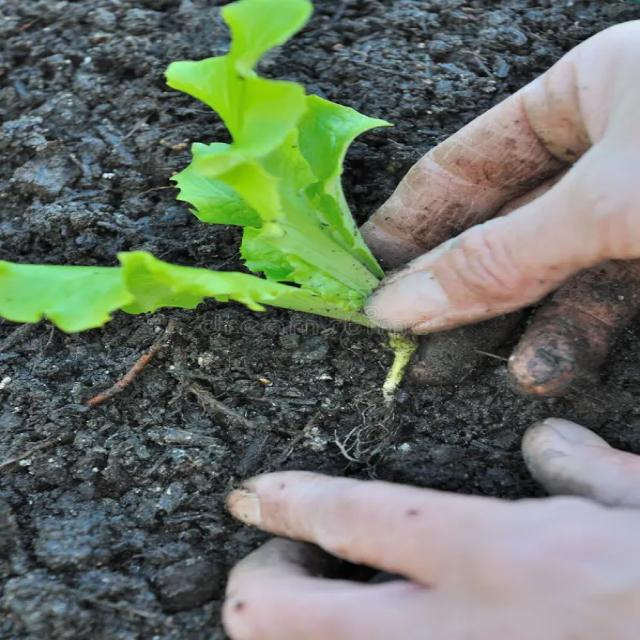verde: (0, 0, 387, 332)
